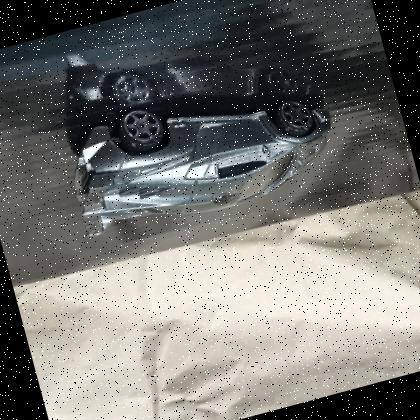Car: (73, 94, 332, 236)
